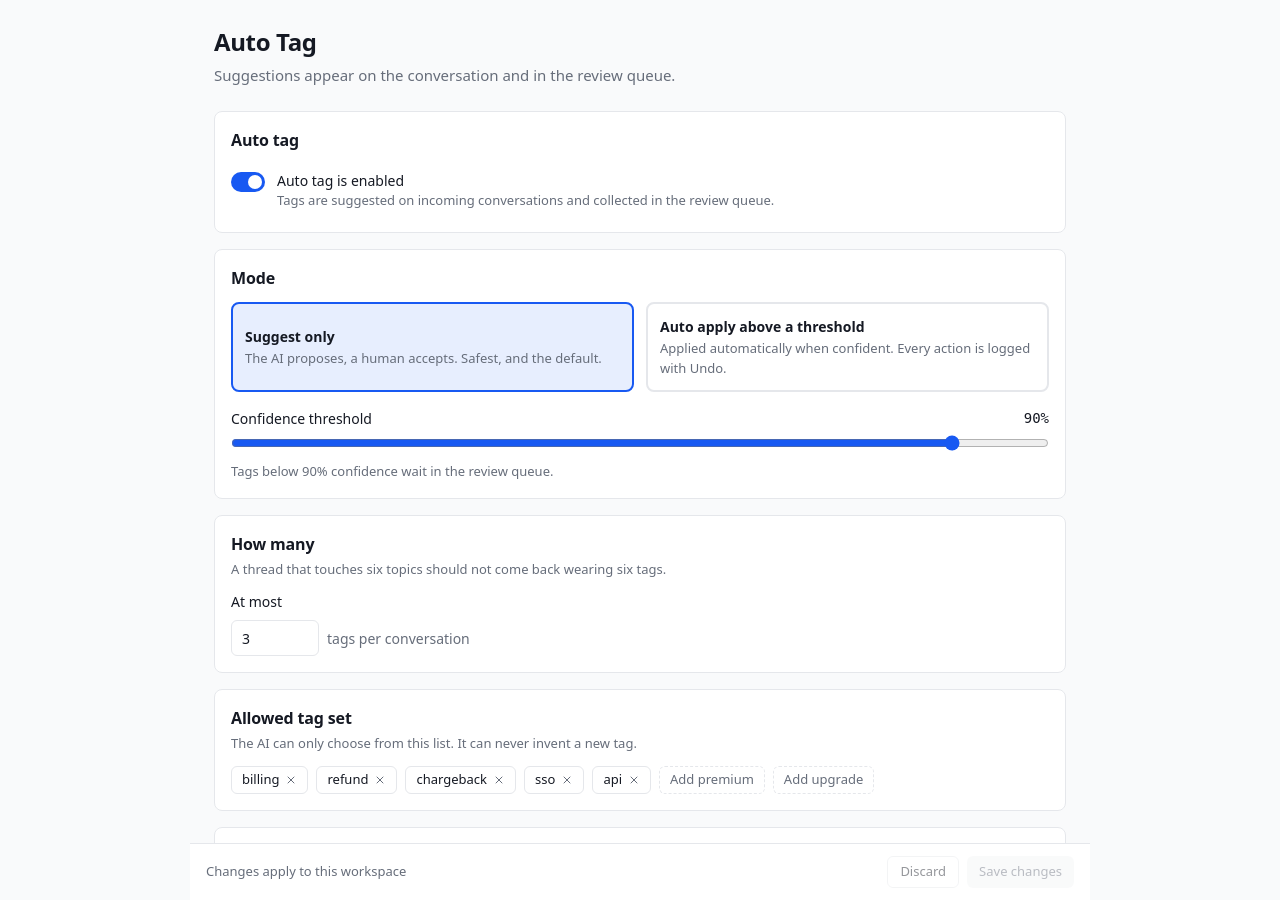
Test: the allowed tag set › restores the stored settings on discard
Expected: the button "Suggest only" is shown, [231,302,634,392]
Click the button named "remove " at point(292, 780), box [286,774,298,786]
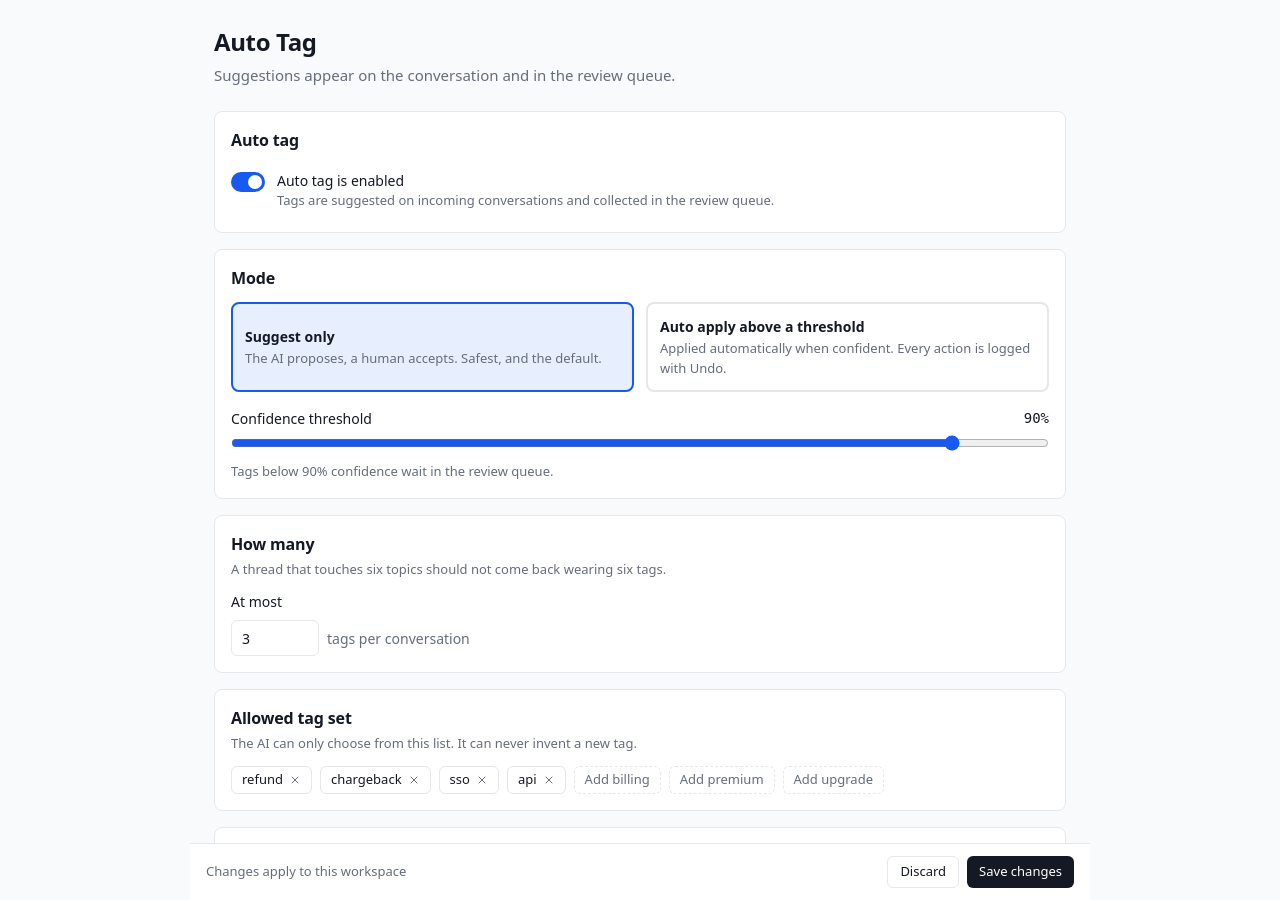
Click the button "Discard" at point(923, 872), box [887,856,959,888]
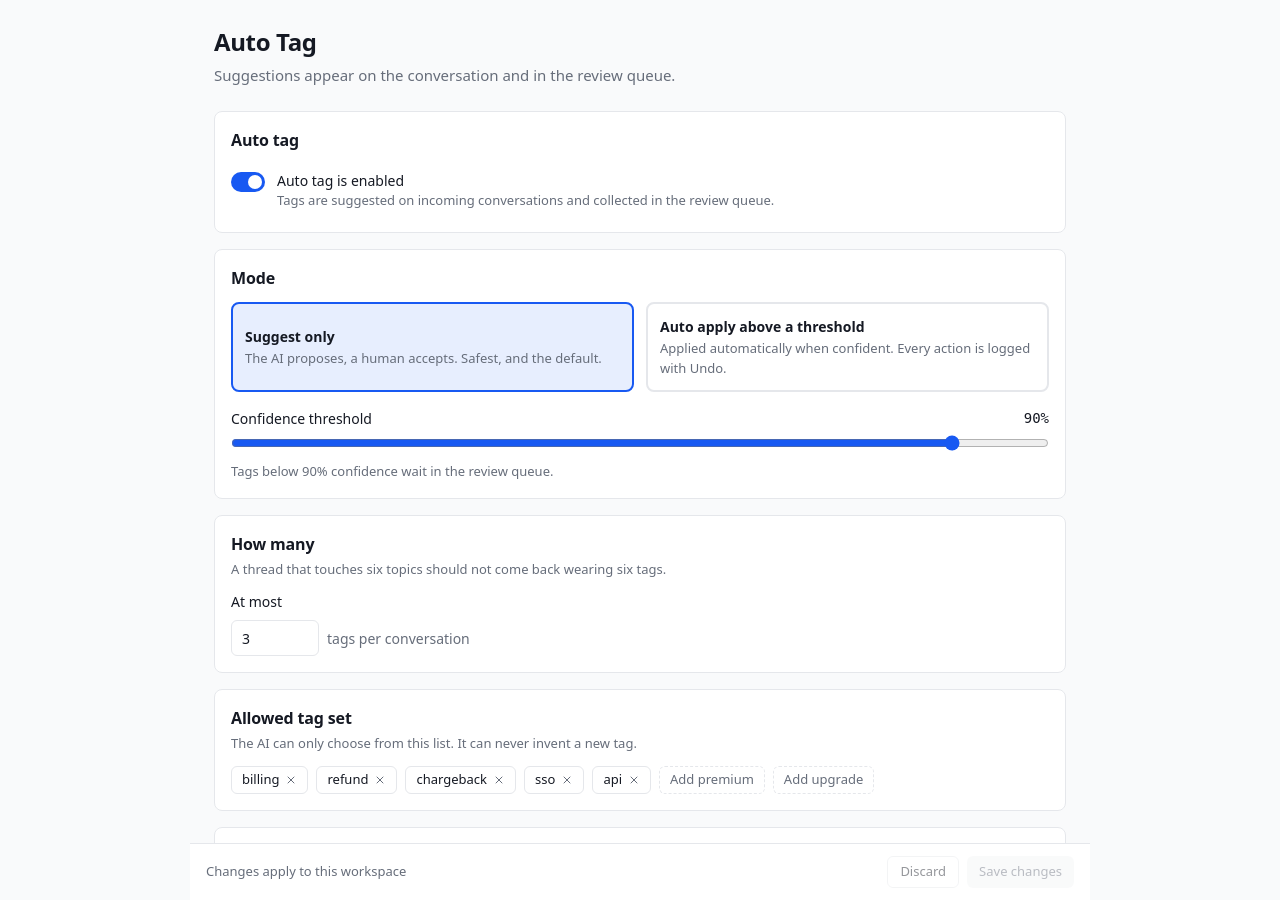
Result: the number of buttons named "remove " is 5 at [286,774,298,786]; [374,774,386,786]; [493,774,505,786]; [561,774,573,786]; [628,774,640,786]
